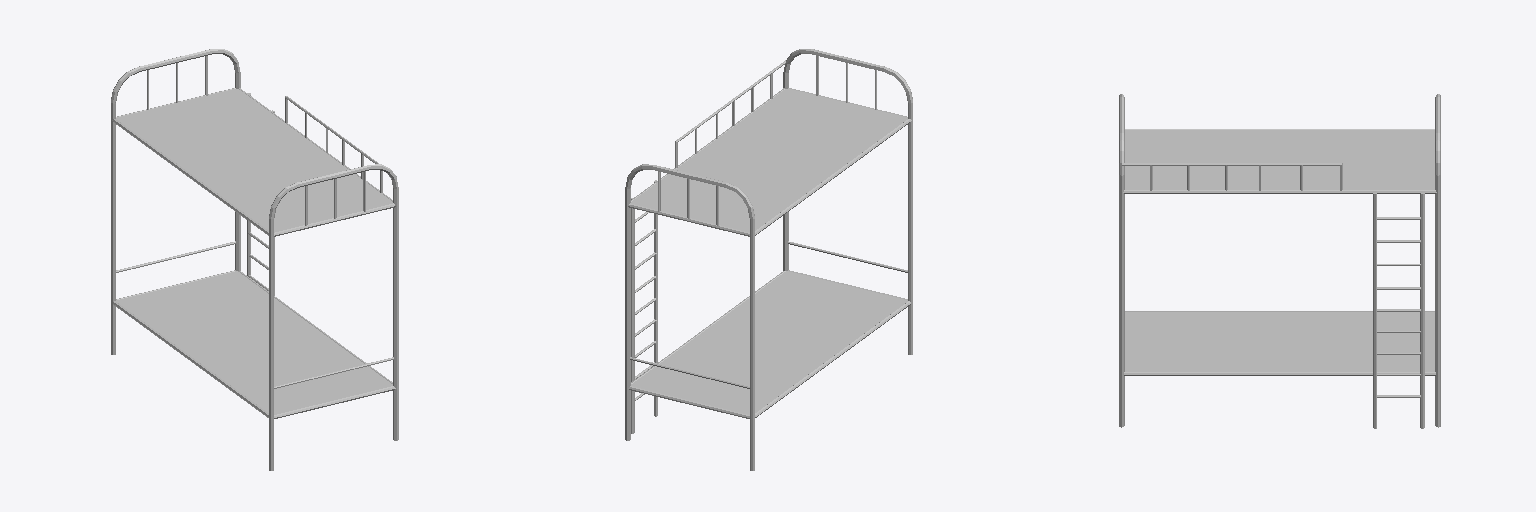
File: bed_T01701.obj
3 renders of one model, left to right at view 1: azimuth 30°, elevation 25°; view 2: azimuth 150°, elevation 25°; view 3: azimuth 270°, elevation 25°, orthographic.
Parts seen in each view (by area): view 1: bed_T01701; view 2: bed_T01701; view 3: bed_T01701.
Part boxes in pixels (left/top/right/bottom): bed_T01701: left=111, top=49, right=398, bottom=470; bed_T01701: left=625, top=49, right=912, bottom=470; bed_T01701: left=1119, top=94, right=1440, bottom=428.
Size of the model in its own units: 106 by 216 by 224.